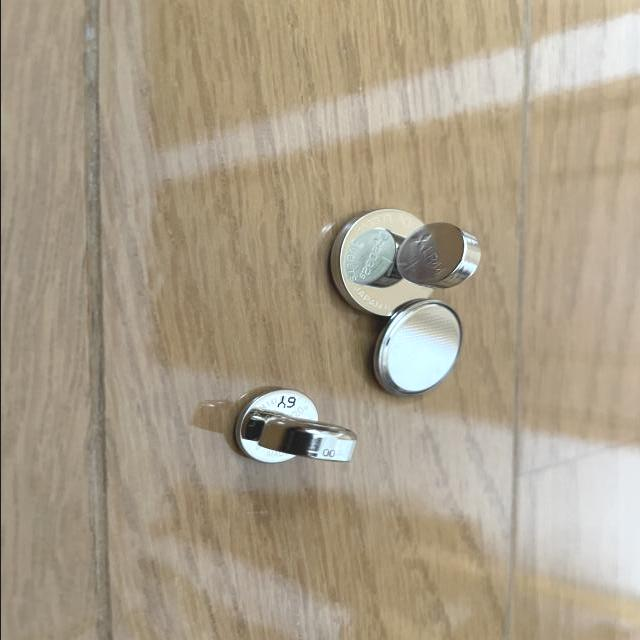COIN: (327, 207, 436, 317), (370, 300, 464, 398), (229, 389, 318, 462), (392, 223, 484, 289), (253, 416, 362, 466)
